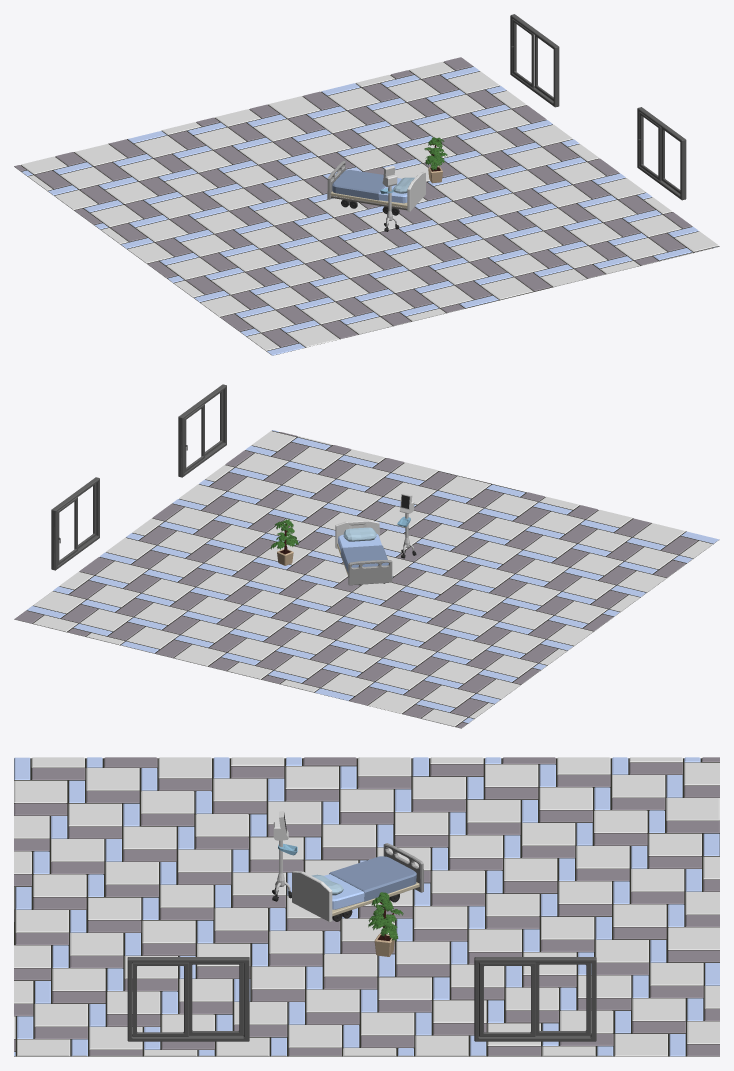
The model's file is Patient Room.fbx.
The picture shows the model from 3 angles, top to bottom: view 1: azimuth 30°, elevation 25°; view 2: azimuth 150°, elevation 25°; view 3: azimuth 270°, elevation 25°; orthographic projection. The views are drawn at different scales.
Parts seen in each view (by area): view 1: Plane.001, Plane.002, Cube.004, Cube, Cube.011, Cube.005, Cube.007, Cube.008, Cube.002; view 2: Plane.001, Plane.002, Cube.004, Cube.011, Cube, Cube.005; view 3: Plane.001, Plane.002, Cube.004, Cube.011, Cube, Cube.005, Cube.006, Cube.009, Cube.007, Cube.008, Cube.002.
Part boxes in pixels (x1,y1,x2,y2): Plane.001: [14, 57, 719, 355]; Plane.002: [20, 62, 719, 355]; Cube.004: [327, 161, 425, 215]; Cube: [510, 14, 559, 107]; Cube.011: [637, 107, 686, 200]; Cube.005: [424, 137, 447, 183]; Cube.007: [512, 19, 534, 88]; Cube.008: [639, 112, 661, 181]; Cube.002: [380, 165, 399, 231]; Plane.001: [14, 430, 719, 728]; Plane.002: [23, 430, 713, 726]; Cube.004: [335, 520, 392, 585]; Cube.011: [178, 384, 226, 477]; Cube: [51, 477, 99, 570]; Cube.005: [270, 519, 298, 565]; Plane.001: [14, 757, 719, 1056]; Plane.002: [14, 758, 719, 1056]; Cube.004: [292, 843, 423, 922]; Cube.011: [127, 957, 249, 1041]; Cube: [474, 957, 596, 1041]; Cube.005: [368, 892, 403, 956]; Cube.006: [479, 962, 535, 1036]; Cube.009: [132, 962, 188, 1036]; Cube.007: [535, 962, 590, 1035]; Cube.008: [189, 962, 244, 1035]; Cube.002: [272, 811, 297, 901].
Bounding box in the file's own units: 9121 × 1431 × 8957.
